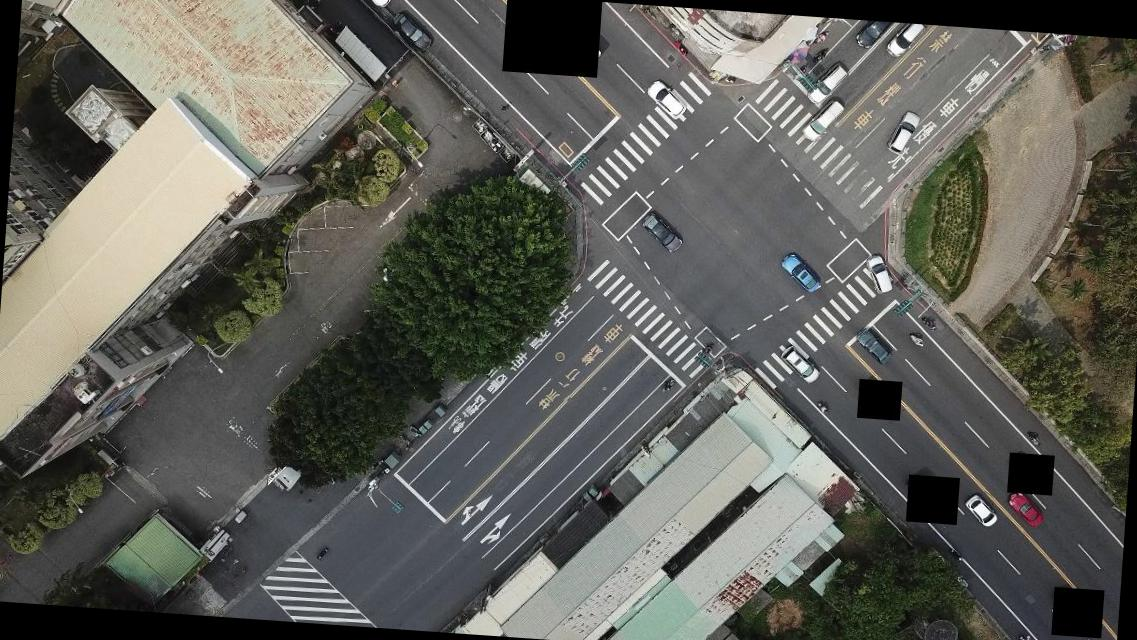vehicle: (797, 96, 845, 142), (804, 59, 850, 106), (778, 250, 825, 296), (640, 209, 685, 255), (643, 78, 688, 120), (882, 109, 922, 155), (778, 344, 821, 386), (390, 9, 434, 50), (884, 21, 929, 60), (853, 326, 895, 364), (1007, 490, 1047, 529), (962, 492, 1001, 528), (864, 252, 894, 294)
